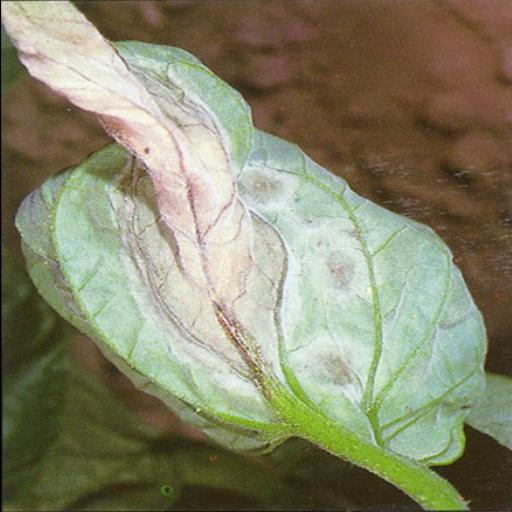disease_tomato: (0, 0, 483, 466)
